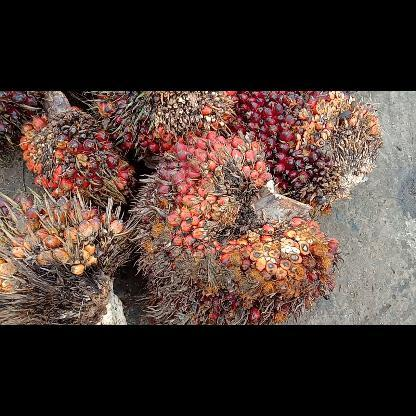TBS masak: (132, 138, 342, 324), (3, 188, 129, 324), (234, 92, 382, 206), (20, 91, 136, 205), (89, 92, 235, 162)
